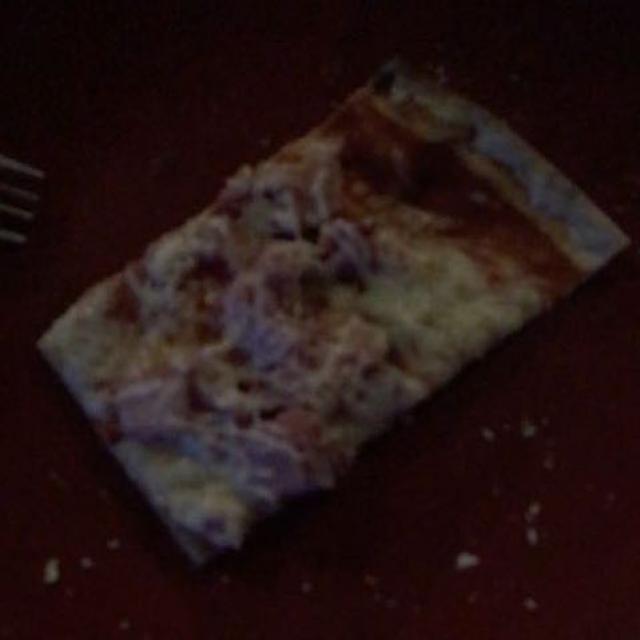ham: (78, 235, 386, 502)
pizza: (58, 81, 587, 548)
